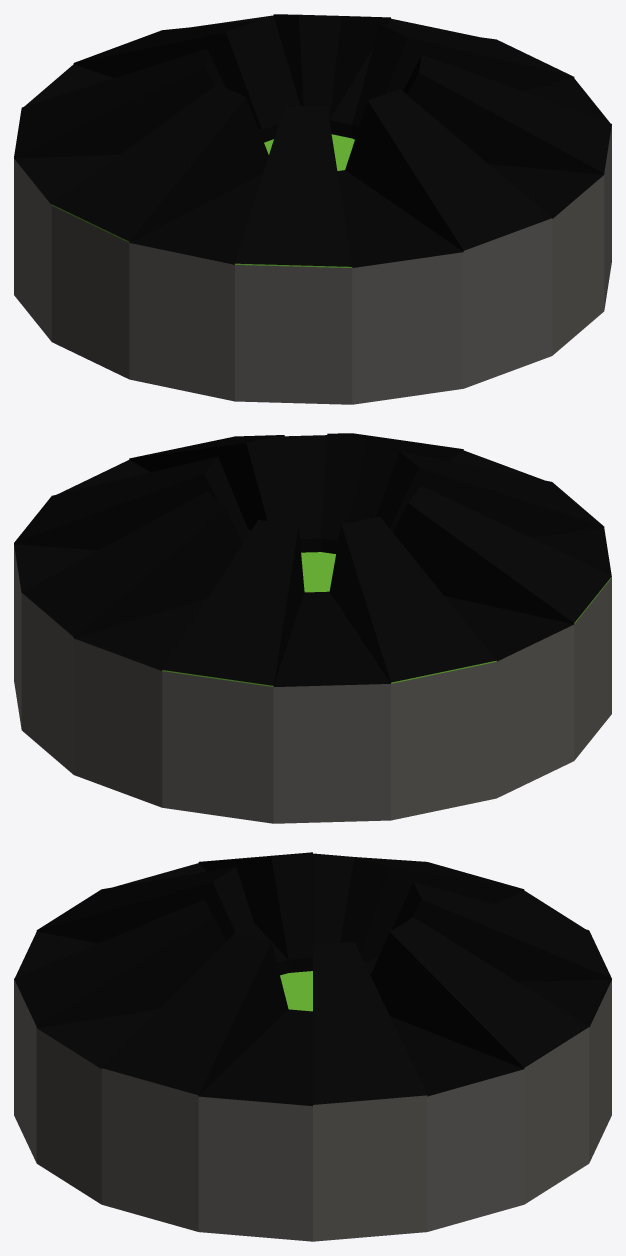
The model's file is blastswitch.glb.
3 views of the same model, one above another, from view 1: azimuth 30°, elevation 25°; view 2: azimuth 150°, elevation 25°; view 3: azimuth 270°, elevation 25° (orthographic).
Visible parts, largest first — view 1: Cylinder; view 2: Cylinder; view 3: Cylinder.
Part boxes in pixels (x1=…): Cylinder: x1=14, y1=14, x2=611, y2=404; Cylinder: x1=14, y1=433, x2=611, y2=823; Cylinder: x1=14, y1=852, x2=611, y2=1241.
Bounding box in the file's own units: 2 × 0.7968 × 2.
Materials: 1 (1 with a texture image).
